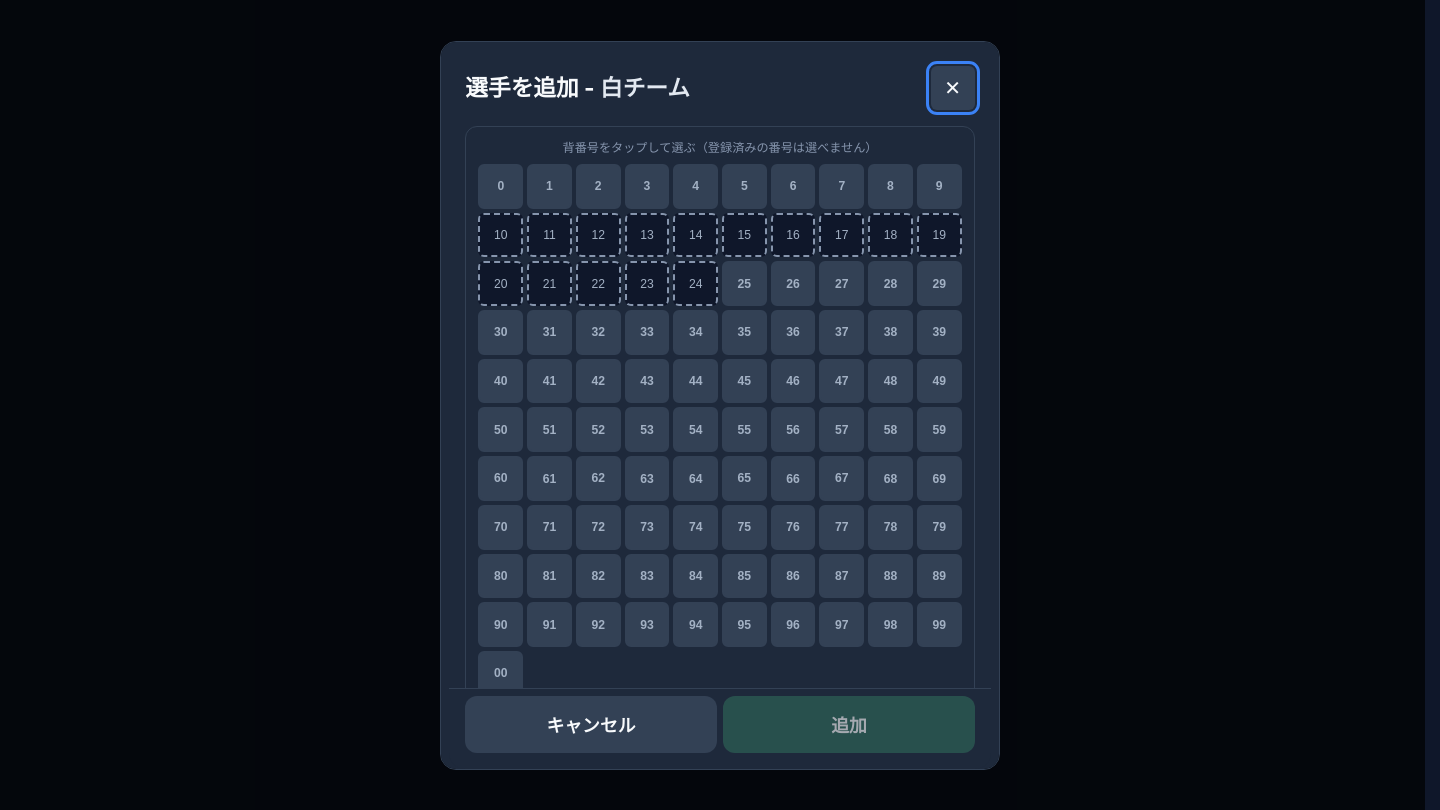
AddPlayersPanel: 15人あふれの案内 › 大きい番号を足すと、載らないのは追加する本人だと伝える
What coordinates should you click on to do the following:
click the button named "背番号99"
I would click on:
 (939, 625)
Its box is [917,602,962,647].
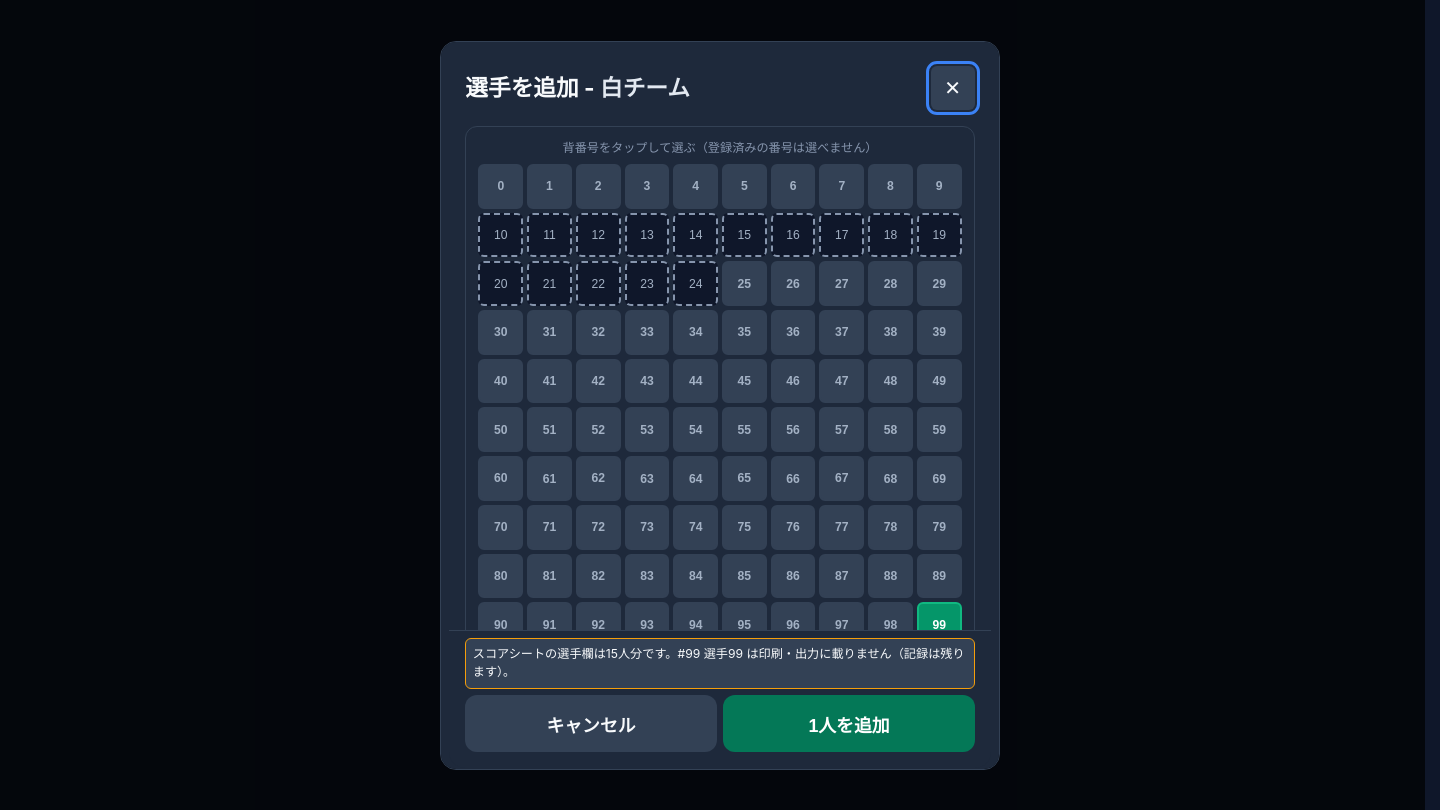
Expected: the message shows "#99 選手99", [473,646,965,679]
Expected: the message shows "印刷・出力に載りません", [473,646,965,679]
